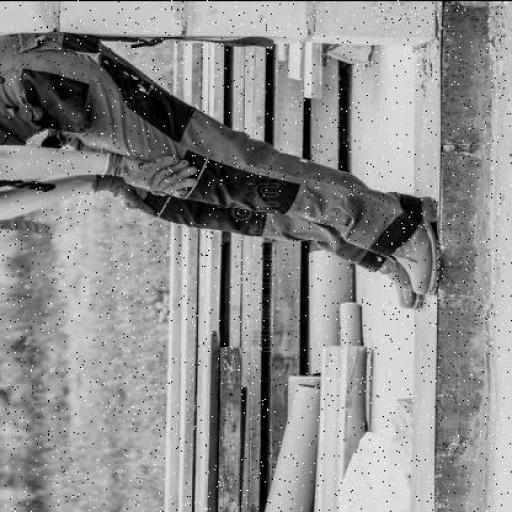safety_shoe: (387, 194, 443, 288), (370, 259, 418, 307)
